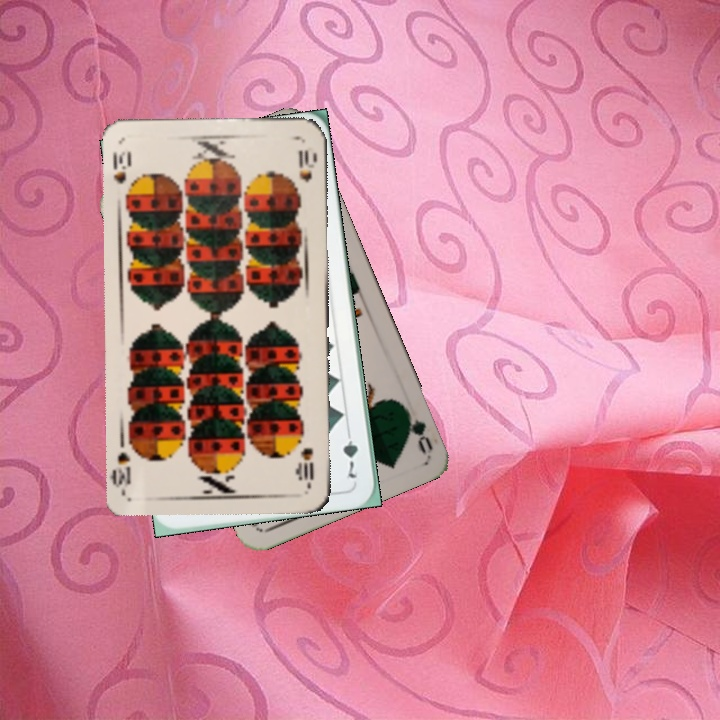G7: (339, 424, 360, 481)
GO: (396, 400, 435, 456)
S10: (109, 147, 134, 186), (297, 444, 316, 489)
